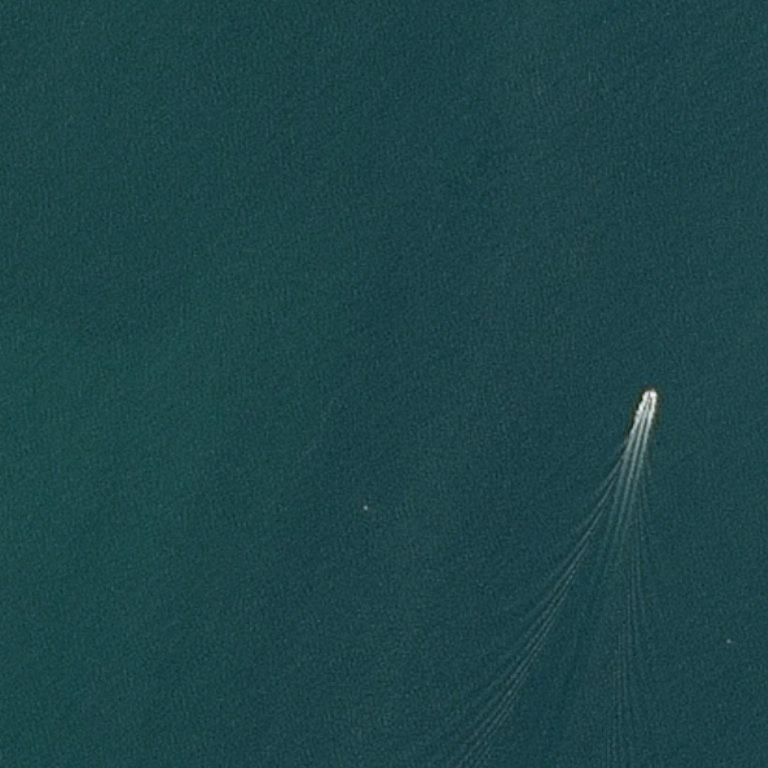ship: (646, 5, 654, 22)
